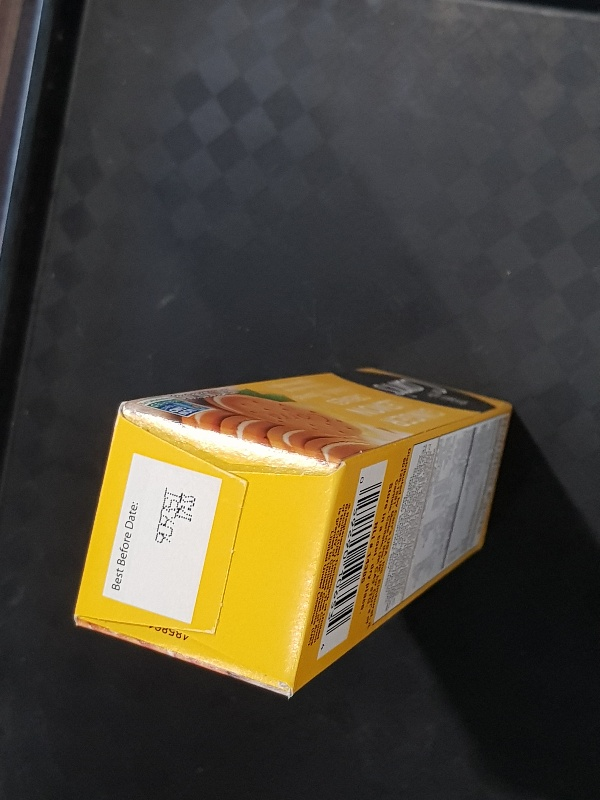Carr's Ginger Lemon Cremes: (70, 367, 511, 697)
